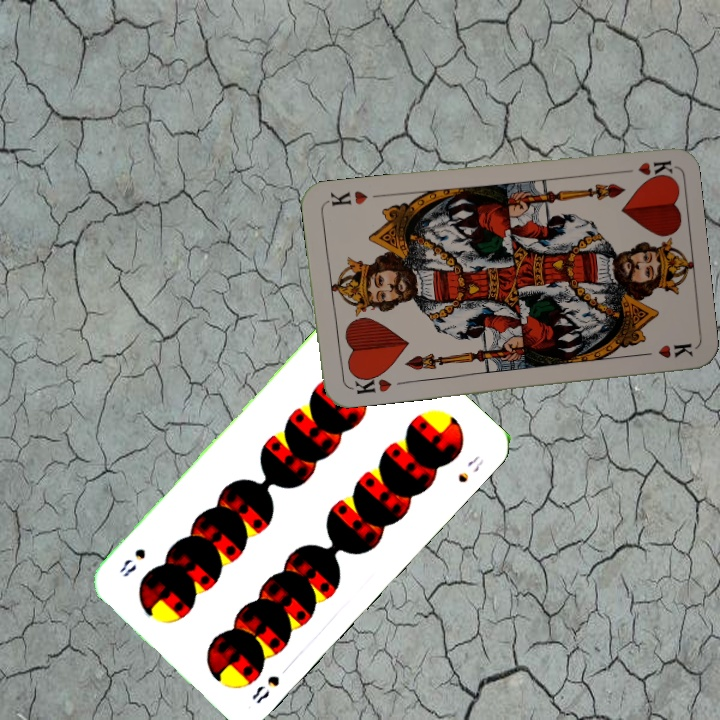HK: (614, 156, 674, 180), (345, 368, 394, 397)
S8: (247, 671, 282, 707)
